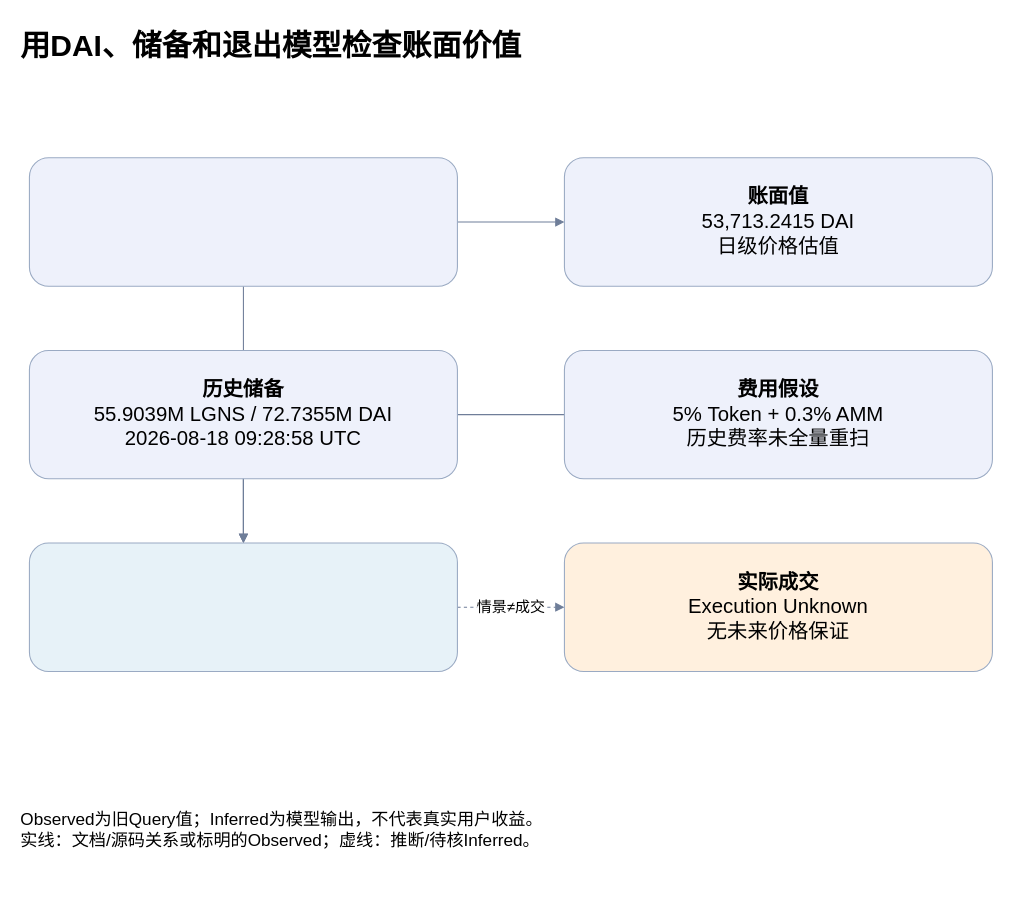
Some shapes in this 1021 by 908 pixel diagram are drawn without their labels. Here are the shapes that lost their labels. From the top down, the box of each, then its label:
(28, 157, 457, 286): 旧模型持仓 41,424.2193 LGNS 初始1,000 DAI情景
(28, 542, 457, 671): 曲线输出 51,012.0486 DAI 公式可离线复算
